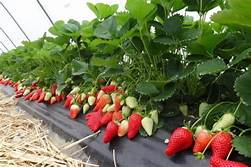Fresa: (164, 123, 195, 158), (207, 126, 235, 162), (192, 128, 215, 156), (126, 111, 145, 142), (103, 118, 119, 145)
